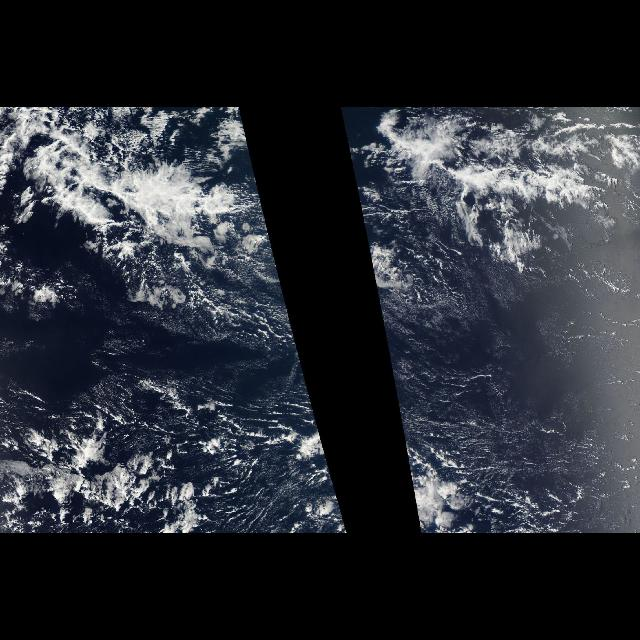Fish: (10, 113, 296, 350), (367, 115, 626, 258)
Flower: (7, 421, 222, 534)
Sugar: (388, 254, 640, 530), (180, 377, 300, 529)
